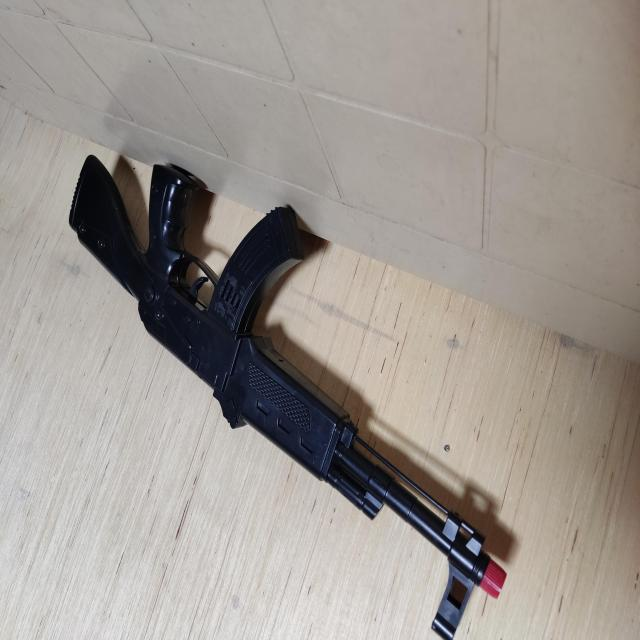rifle: (68, 153, 505, 640)
